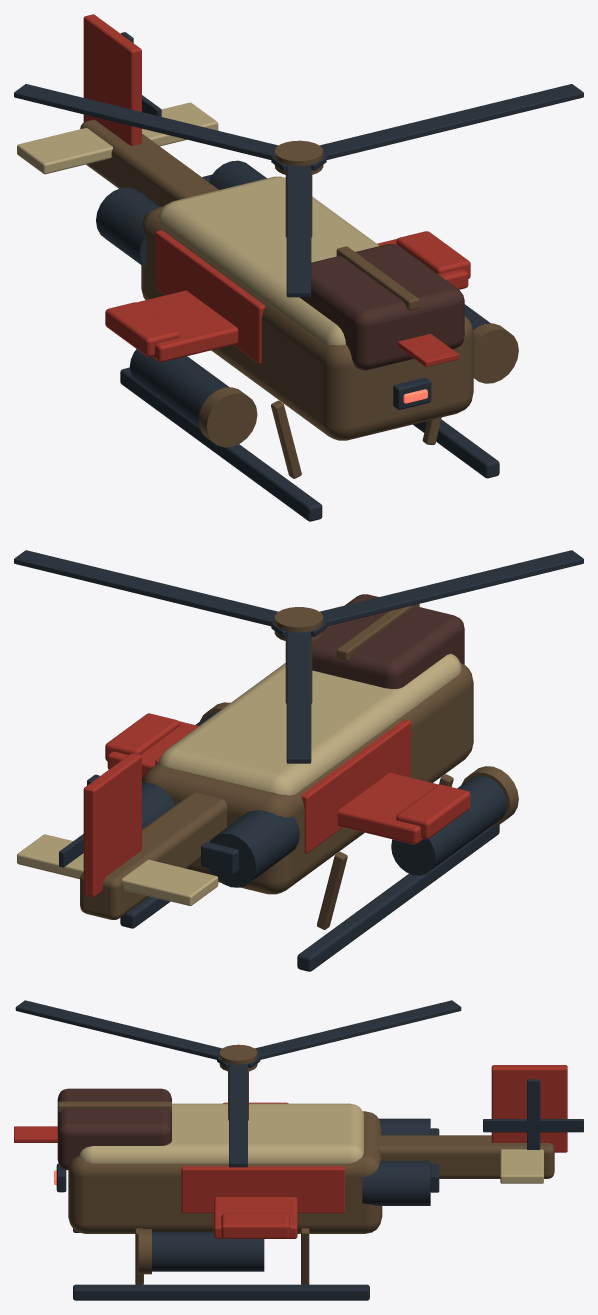
The model's file is gunship-1.glb.
3 renders of one model, top to bottom at view 1: azimuth 30°, elevation 25°; view 2: azimuth 150°, elevation 25°; view 3: azimuth 270°, elevation 25°, orthographic. The views are drawn at different scales.
Visible parts, largest first — view 1: Airframe_0, CeramicFuselage_1, Cockpit_2, SideEnamel_7, TailFin_24, TailBoom_23, RotorBlade_34, RotorBlade_36, TailPlane_25, Wing_8, Skid_26, WeaponPod_10 (+13 smaller); view 2: CeramicFuselage_1, Airframe_0, Cockpit_2, TailBoom_23, TailFin_24, SideEnamel_7, TailPlane_25, RotorBlade_35, RotorBlade_34, WeaponPod_10, Skid_26, Exhaust_12 (+12 smaller); view 3: Airframe_0, CeramicFuselage_1, SideEnamel_15, Cockpit_2, Skid_29, TailBoom_23, TailFin_24, WeaponPod_18, Exhaust_20, RotorBlade_35, RotorBlade_36, RotorBlade_34 (+11 smaller).
Part boxes in pixels (x1,y1,x2,y2): Airframe_0: (141, 206, 473, 440); CeramicFuselage_1: (158, 176, 379, 345); Cockpit_2: (300, 244, 464, 370); SideEnamel_7: (155, 230, 265, 363); TailFin_24: (83, 14, 141, 145); TailBoom_23: (80, 119, 218, 206); RotorBlade_34: (271, 84, 583, 170); RotorBlade_36: (14, 84, 326, 170); TailPlane_25: (17, 102, 218, 174); Wing_8: (137, 290, 238, 362); Skid_26: (120, 367, 322, 521); WeaponPod_10: (129, 349, 229, 427); CeramicFuselage_1: (158, 654, 461, 795); Airframe_0: (142, 663, 473, 894); Cockpit_2: (312, 594, 464, 688); TailBoom_23: (80, 792, 227, 919); TailFin_24: (83, 753, 141, 897); SideEnamel_7: (301, 719, 410, 853); TailPlane_25: (17, 834, 218, 905); RotorBlade_35: (271, 550, 583, 636); RotorBlade_34: (14, 550, 326, 636); WeaponPod_10: (391, 775, 507, 875); Skid_26: (297, 824, 499, 971); Exhaust_12: (209, 810, 299, 887); Airframe_0: (68, 1111, 382, 1233); CeramicFuselage_1: (79, 1103, 363, 1163); SideEnamel_15: (181, 1166, 344, 1213); Cockpit_2: (57, 1088, 171, 1170); Skid_29: (73, 1284, 369, 1300); TailBoom_23: (379, 1135, 554, 1178); TailFin_24: (491, 1065, 567, 1152); WeaponPod_18: (152, 1232, 264, 1271); Exhaust_20: (362, 1160, 430, 1205); RotorBlade_35: (15, 1000, 260, 1067); RotorBlade_36: (217, 1000, 461, 1067); RotorBlade_34: (229, 1063, 247, 1167).
Bounding box in the file's own units: 2.09 × 1.23 × 2.99.
